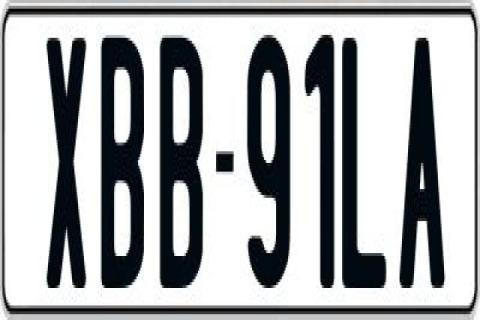0: (244, 26, 294, 291), (303, 27, 335, 280)
A: (399, 32, 443, 296)
B: (159, 38, 209, 288), (101, 38, 147, 300)
L: (340, 38, 388, 288)
X: (44, 35, 85, 297)
